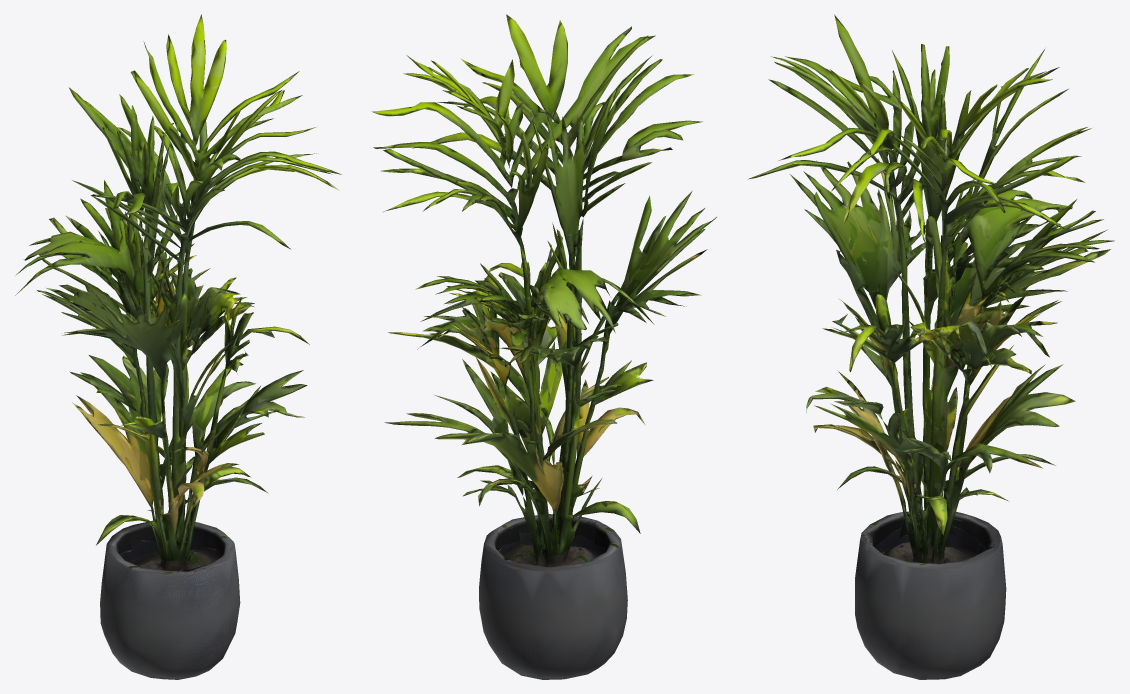
Rendered from bitki.fbx.
3 views of the same model, side by side, from view 1: azimuth 30°, elevation 25°; view 2: azimuth 150°, elevation 25°; view 3: azimuth 270°, elevation 25° (orthographic). The views are drawn at different scales.
Parts seen in each view (by area): view 1: Mesh_0; view 2: Mesh_0; view 3: Mesh_0.
Boxes of the visible parts, <box> form: Mesh_0: <box>15,14,341,679</box>; Mesh_0: <box>371,14,716,679</box>; Mesh_0: <box>748,14,1114,679</box>.
Size of the model in its own units: 92.17 by 190 by 101.
Materials: 1 (1 with a texture image).
